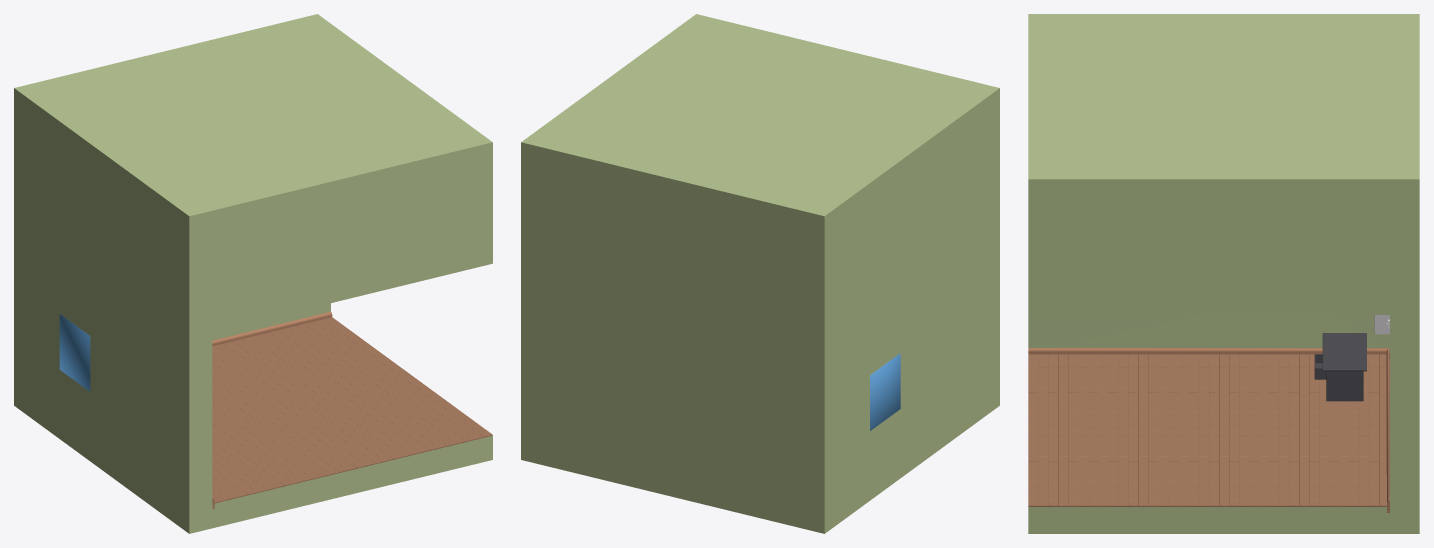
Rendered from no-phone-laptop-books.glb.
The picture shows the model from 3 angles, left to right: view 1: azimuth 30°, elevation 25°; view 2: azimuth 150°, elevation 25°; view 3: azimuth 270°, elevation 25°; orthographic projection. The views are drawn at different scales.
Visible parts, largest first — view 1: walls, floor_big, window, floor_trim; view 2: walls, window; view 3: walls, floor_big, Plane.006, floor_trim.
Part boxes in pixels (<box>): walls: <box>14,14,492,533</box>; floor_big: <box>212,317,492,503</box>; window: <box>59,314,90,391</box>; floor_trim: <box>212,311,332,509</box>; walls: <box>521,14,999,533</box>; window: <box>870,353,900,430</box>; walls: <box>1028,14,1419,533</box>; floor_big: <box>1028,353,1389,506</box>; Plane.006: <box>1314,333,1366,401</box>; floor_trim: <box>1028,348,1389,512</box>.
Size of the model in its own units: 7.97 by 7.97 by 7.97.
